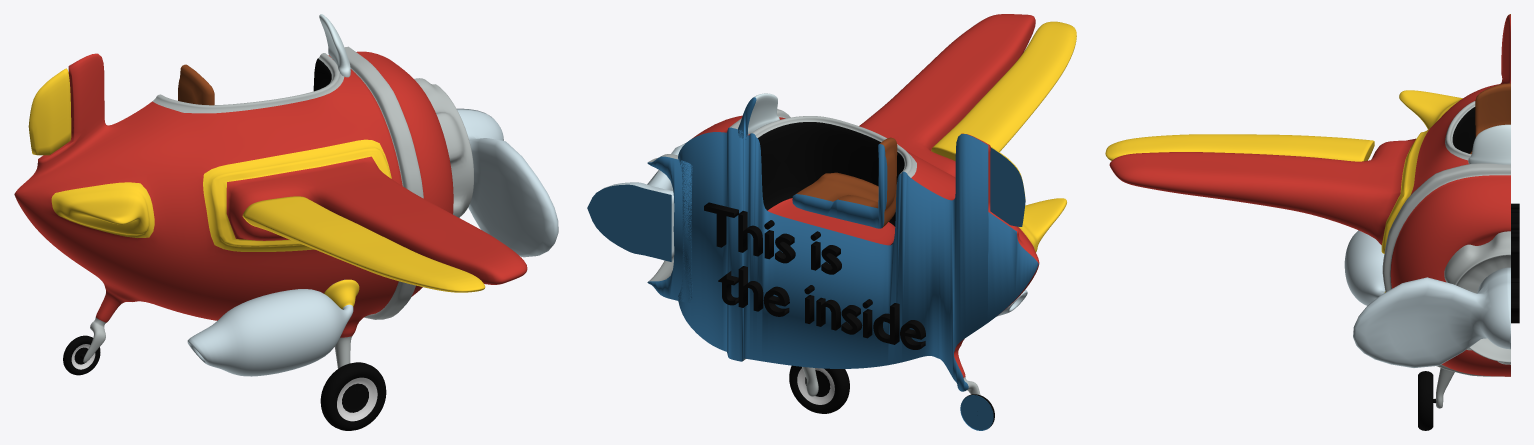
The model's file is avionHalf.gltf.
3 renders of one model, left to right at view 1: azimuth 30°, elevation 25°; view 2: azimuth 150°, elevation 25°; view 3: azimuth 270°, elevation 25°, orthographic. The views are drawn at different scales.
Visible parts, largest first — view 1: Cylinder.010; view 2: Cylinder.010, Text; view 3: Cylinder.010, Text.
Part boxes in pixels (<box>): Cylinder.010: <box>14,14,558,430</box>; Cylinder.010: <box>587,14,1076,430</box>; Text: <box>704,202,925,349</box>; Cylinder.010: <box>1105,14,1510,430</box>; Text: <box>1511,203,1519,323</box>.
Size of the model in its own units: 8.59 by 6.55 by 7.58.
